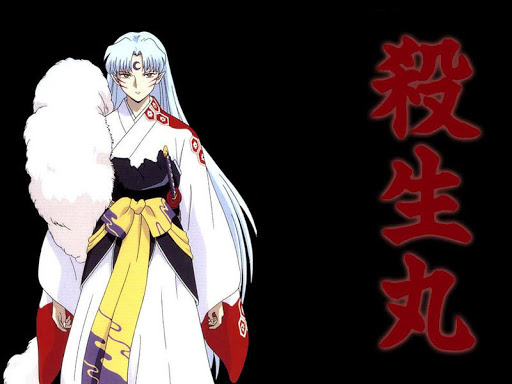sesshomaru: (93, 31, 183, 133)
